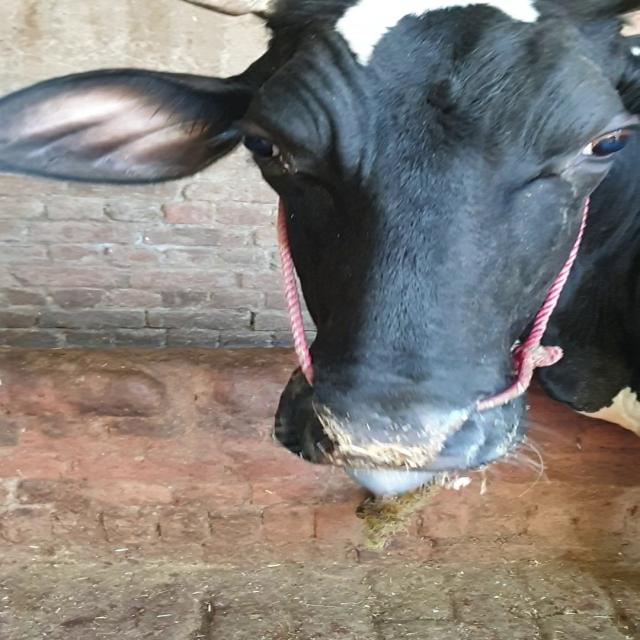cowFace: (201, 0, 639, 473)
